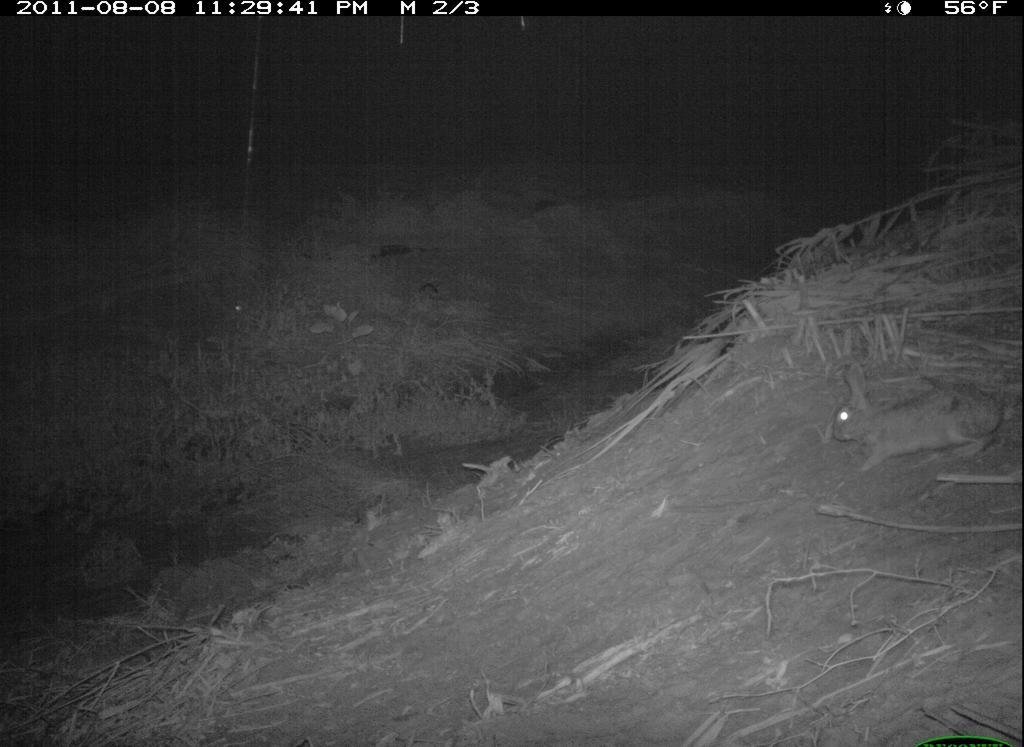rabbit: (818, 354, 1018, 487)
